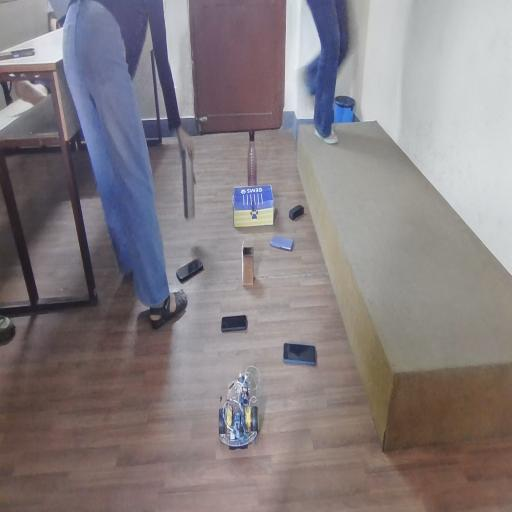Bottle: (247, 120, 268, 186)
car: (214, 367, 275, 452)
